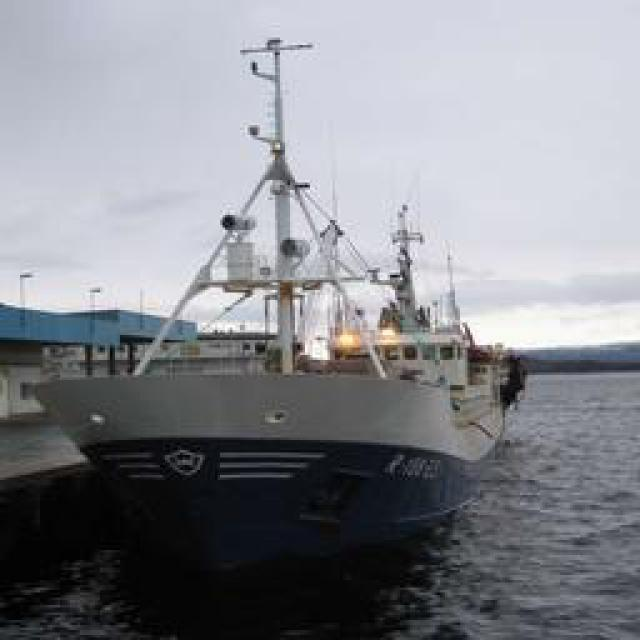Ship: (21, 43, 516, 548)
